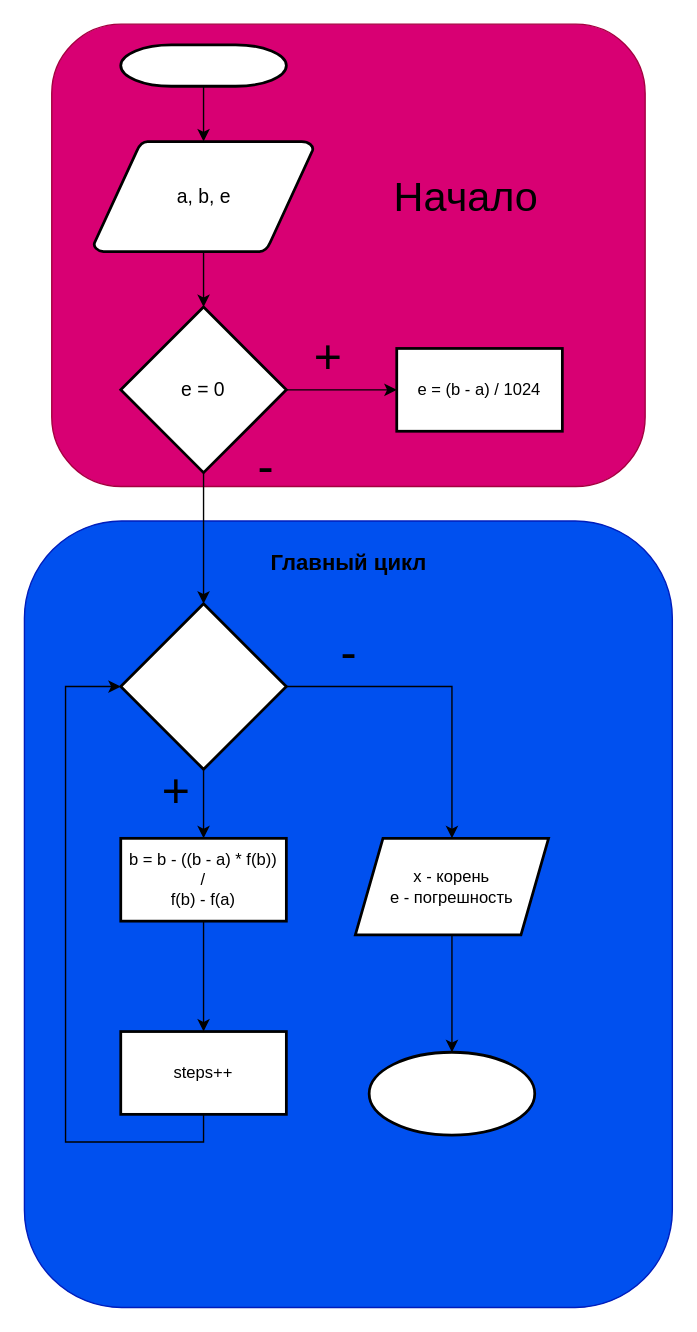
The diagram is 697 pixels wide and 1332 high, and some of its shapes have lost their labels. Here are the shapes that lost their labels. From the top down, the centre of each, then its label:
At [203,65]: "start".
At [203,686]: "|f(b)| > 0".
At [451,1093]: "конец".
